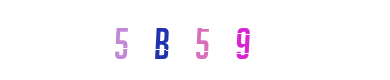5: (121, 0, 201, 80), (155, 0, 235, 80)
9: (203, 0, 283, 80)
B: (127, 0, 207, 80)
